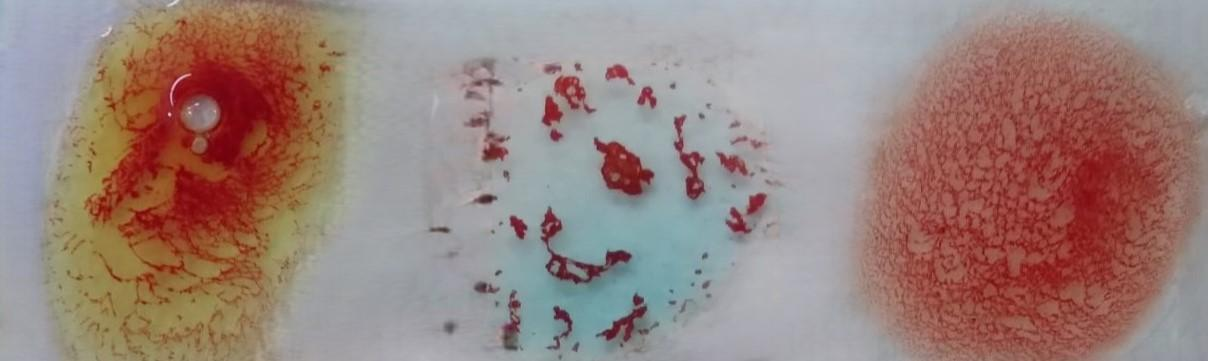A: (442, 55, 794, 361)
B: (58, 8, 322, 361)
D: (888, 28, 1174, 361)
